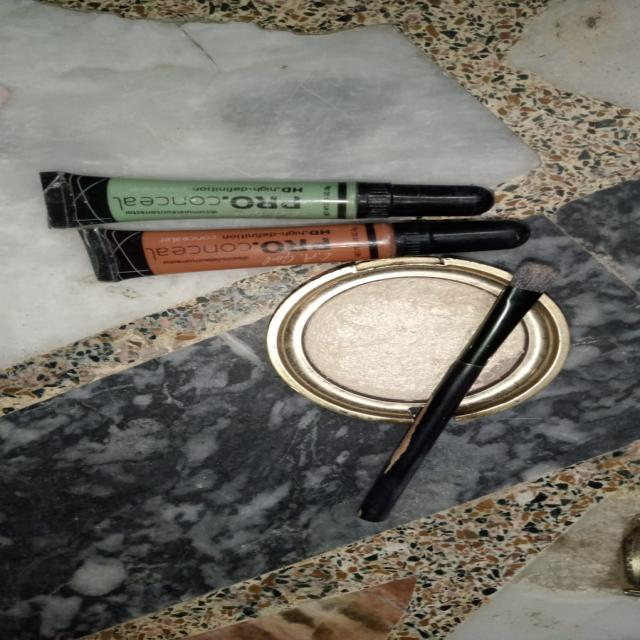Tint: (48, 162, 525, 270)
brush: (339, 260, 577, 534)
highlighter: (243, 252, 580, 441)
